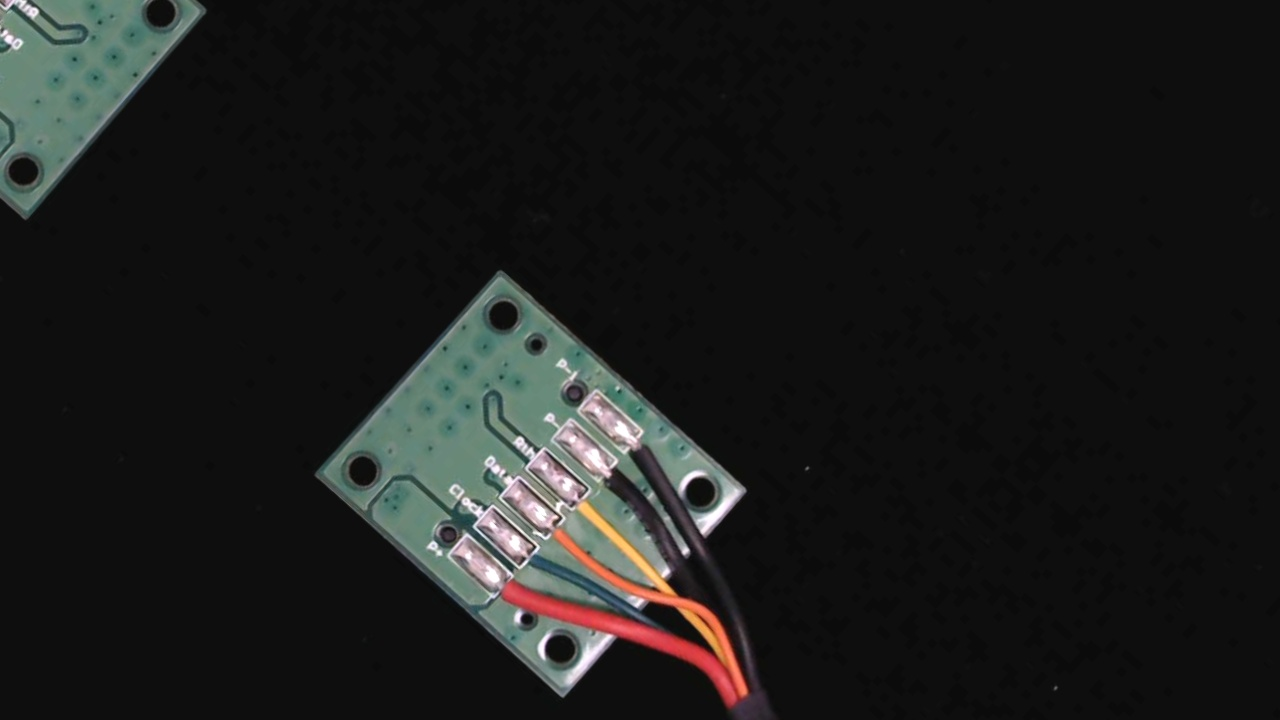Black: (584, 447, 649, 510)
Black1: (611, 419, 676, 481)
Green: (505, 534, 571, 597)
Orange: (531, 506, 603, 574)
Red: (479, 560, 551, 629)
Yellow: (560, 477, 627, 542)
